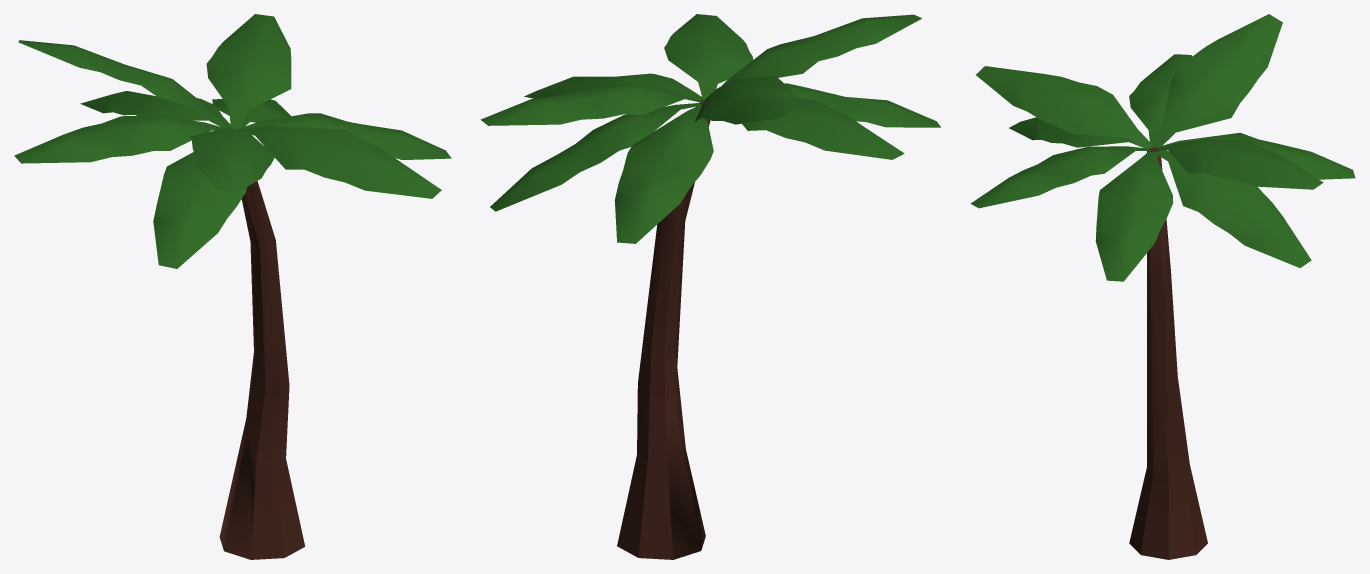
File: SM_palmtree_05_LOD2.fbx
3 renders of one model, left to right at view 1: azimuth 30°, elevation 25°; view 2: azimuth 150°, elevation 25°; view 3: azimuth 270°, elevation 25°, orthographic. The views are drawn at different scales.
Parts seen in each view (by area): view 1: Palm_tree_02; view 2: Palm_tree_02; view 3: Palm_tree_02.
Part boxes in pixels (x1=…): Palm_tree_02: x1=14, y1=14, x2=451, y2=559; Palm_tree_02: x1=480, y1=14, x2=940, y2=559; Palm_tree_02: x1=970, y1=14, x2=1355, y2=559.
Bounding box in the file's own units: 513 × 624 × 486.
